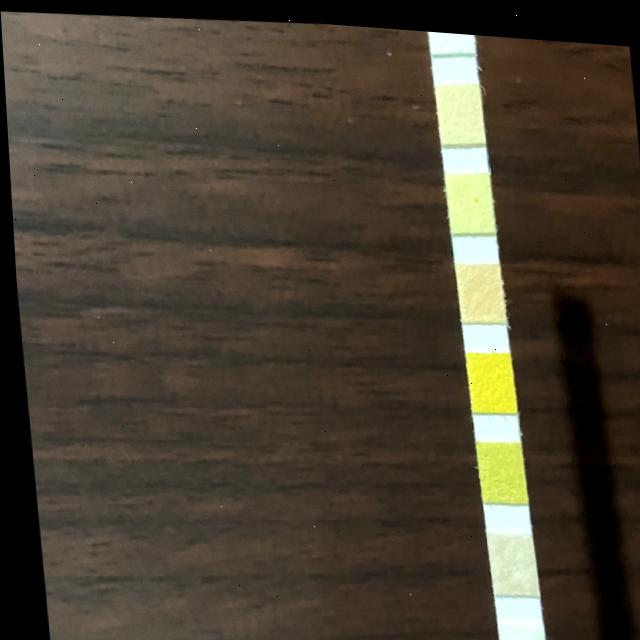Bilirubin: (493, 618, 538, 640)
Blood: (461, 345, 508, 407)
Ketone: (480, 525, 527, 588)
Nitrite: (428, 25, 472, 47)
Protein: (444, 166, 490, 228)
SpGravity: (472, 433, 519, 494)
Urobilinogen: (434, 77, 481, 138)
pH: (453, 257, 500, 319)
